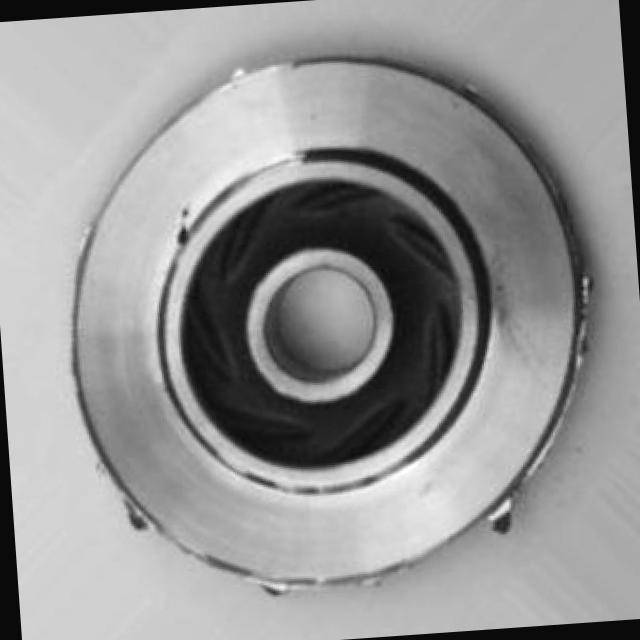Defect: (160, 207, 203, 256)
